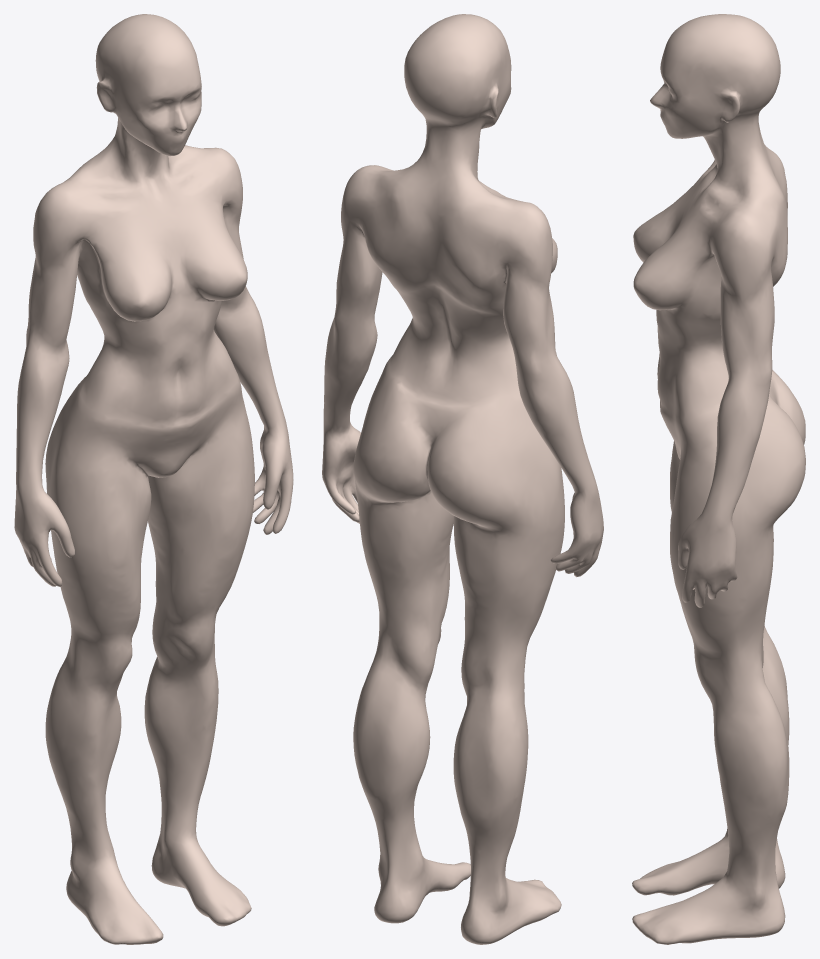
File: body-female.glb
The picture shows the model from 3 angles, left to right: view 1: azimuth 30°, elevation 25°; view 2: azimuth 150°, elevation 25°; view 3: azimuth 270°, elevation 25°; orthographic projection.
Visible parts, largest first — view 1: body; view 2: body; view 3: body.
Boxes of the visible parts, box(x1,y1,x2,y2) form: body: box(14, 14, 293, 944); body: box(322, 14, 603, 944); body: box(632, 14, 805, 944).
Bounding box in the file's own units: 52.11 × 165 × 29.09.
